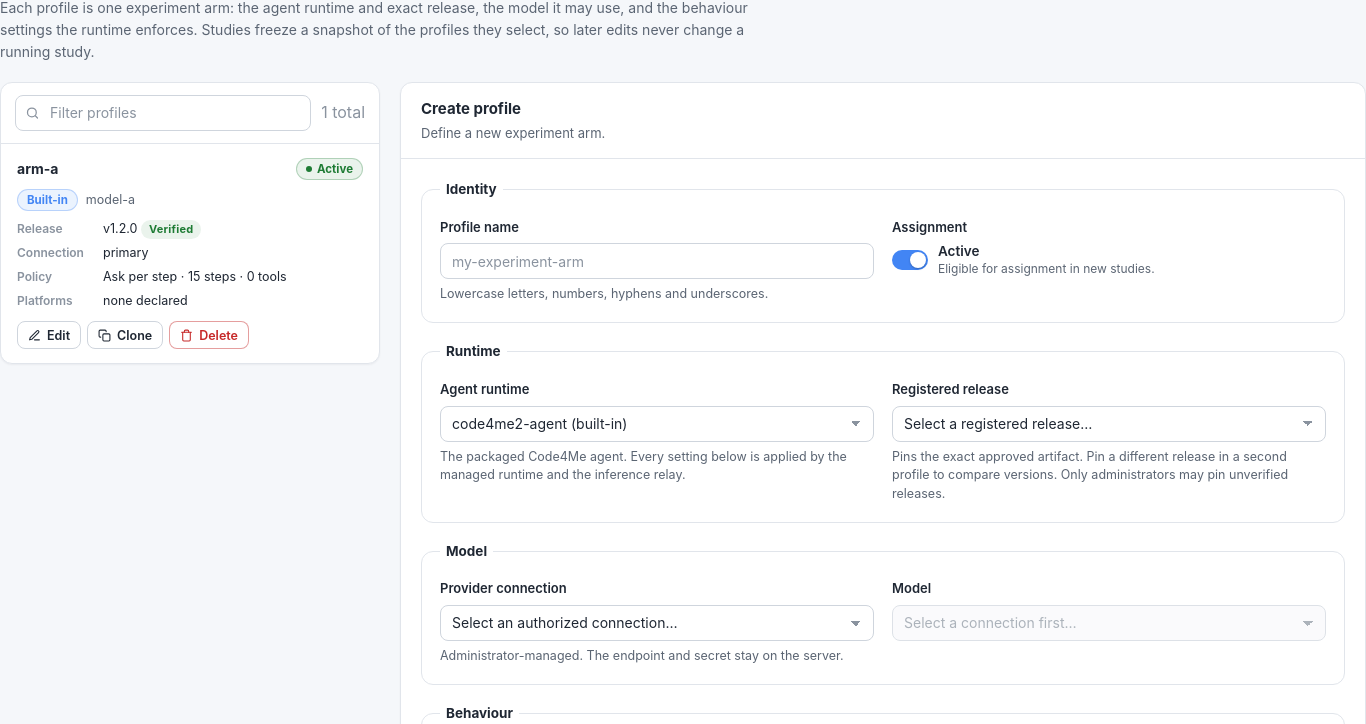
Test case: a FastAPI 422 detail array renders a readable message without crashing
Expected: the text "arm-a" is shown, [17,158,58,181]
Step 1. Type "new-arm" into the field labelled "Profile name" → (657, 261), box [440,243,874,279]
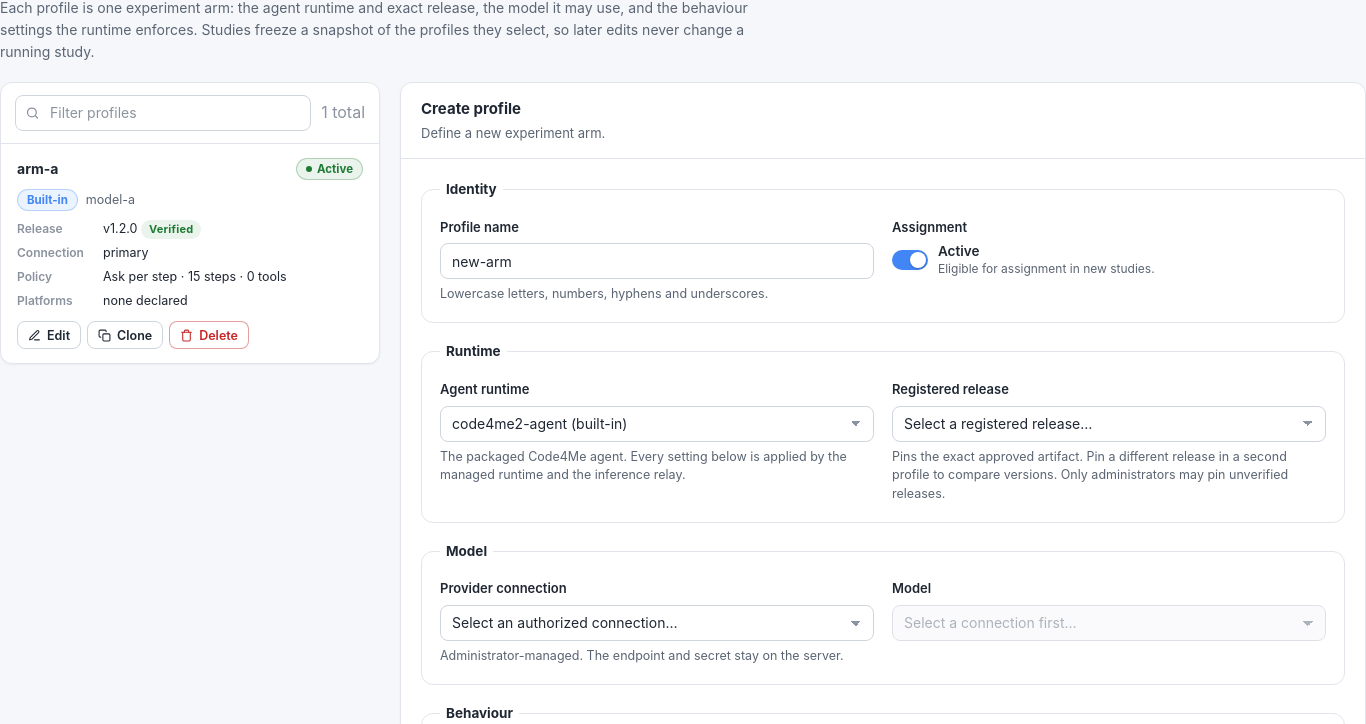
Step 2. Select "primary" in the dropdown labelled "Provider connection" → (657, 623), box [440,605,874,641]
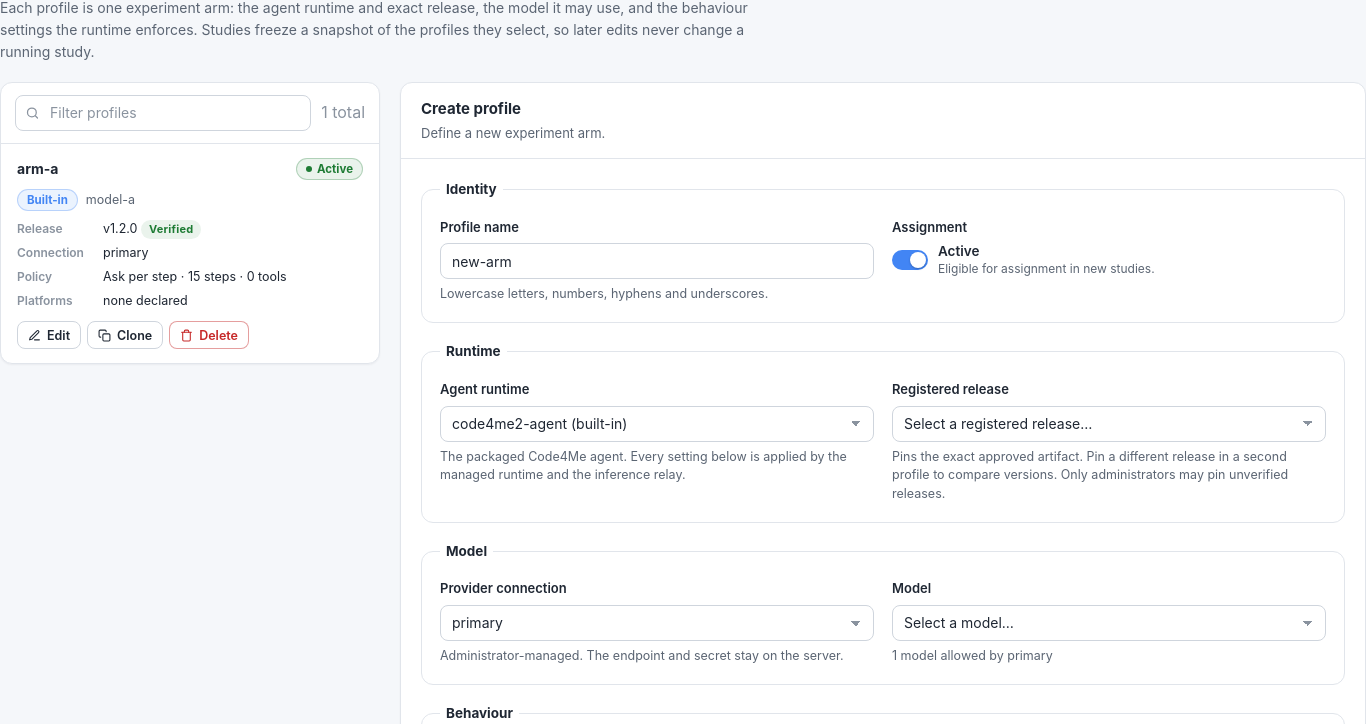
Step 3. Select "model-a" in the dropdown labelled "Model" → (1109, 623), box [892,605,1326,641]
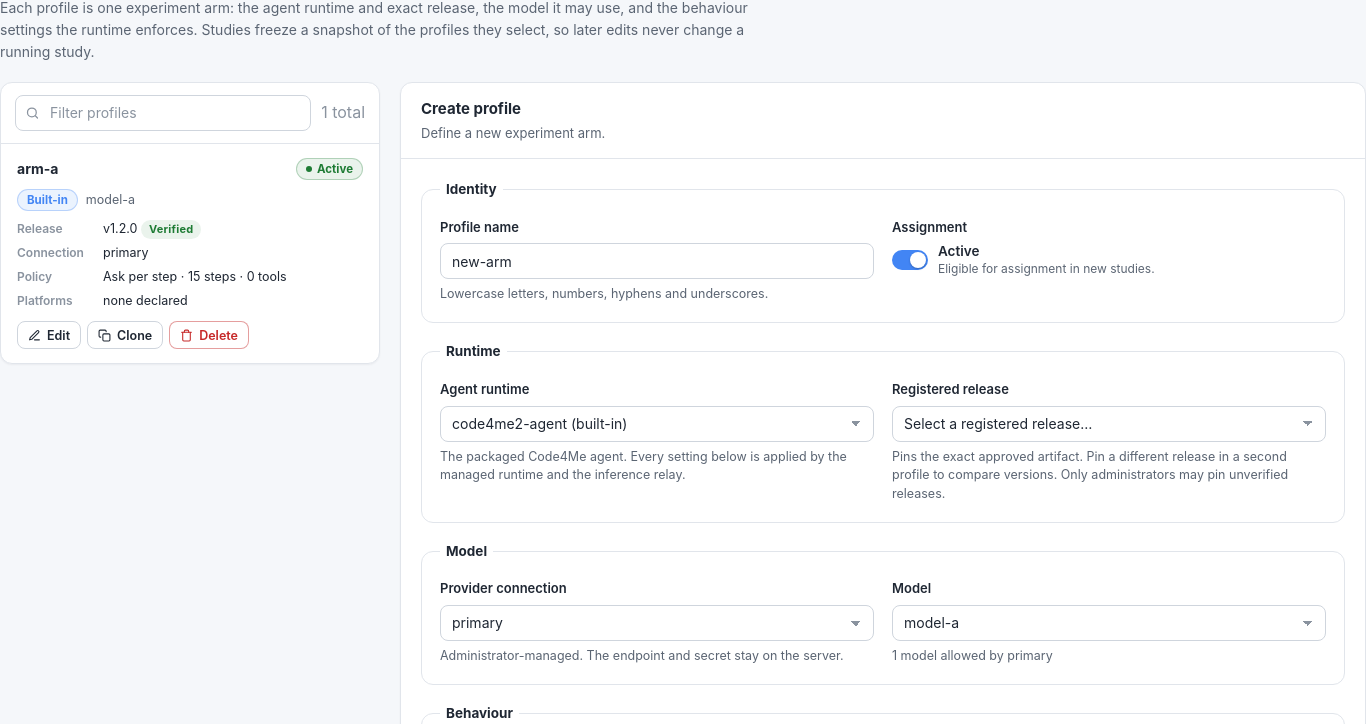
Step 4. Select "rel-1 · v1.2.0 · QUALIFIED · PACKAGED · linux/x64" in the dropdown labelled "Registered release" → (1109, 424), box [892,406,1326,442]
(page scrolled)
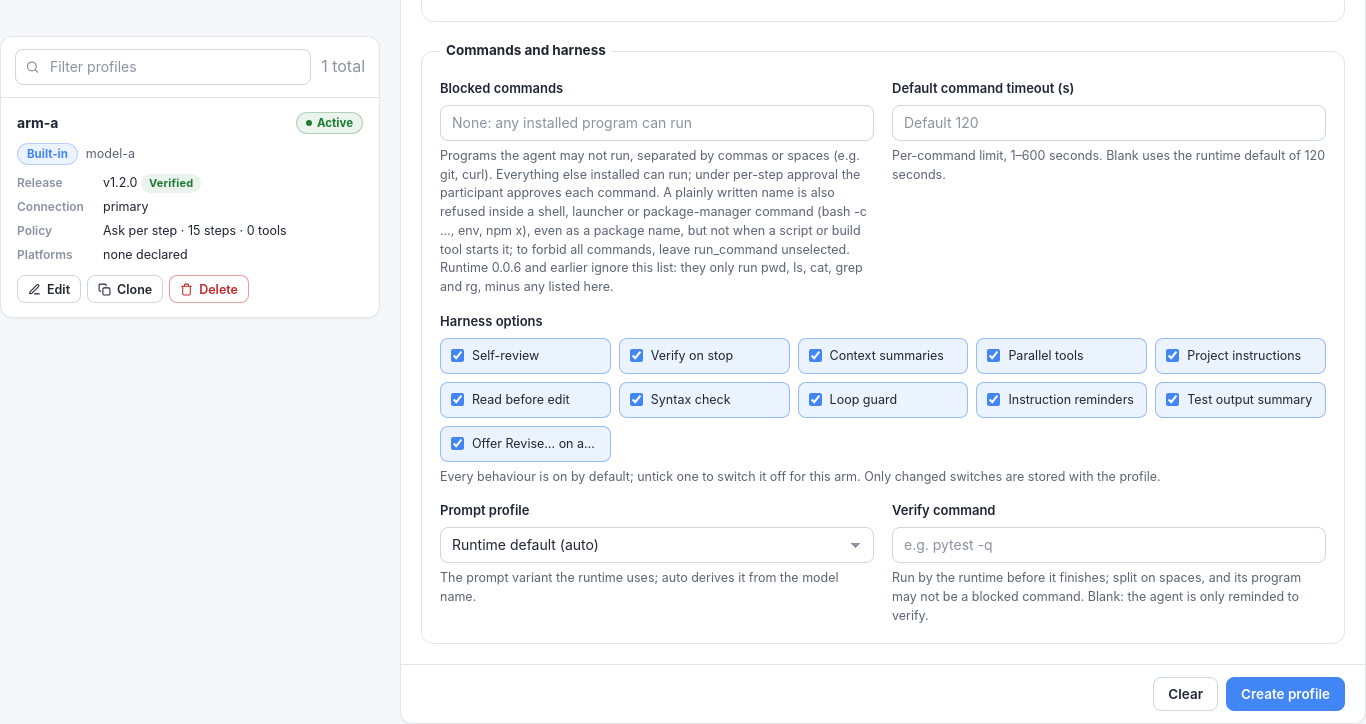
Step 5. Click the button "Create profile" → (1286, 694), box [1226,677,1345,711]
(page scrolled)
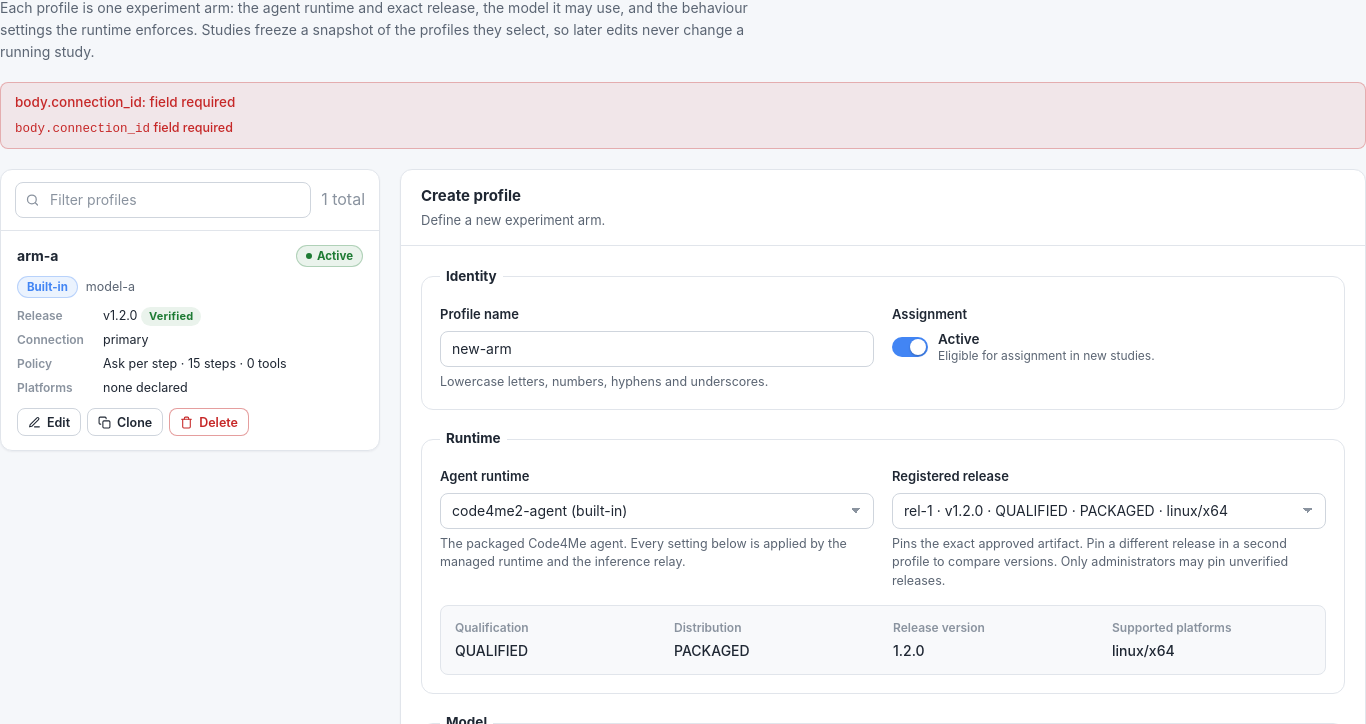
Expected: the text "body.connection_id: field required" is shown, [15,94,235,110]
